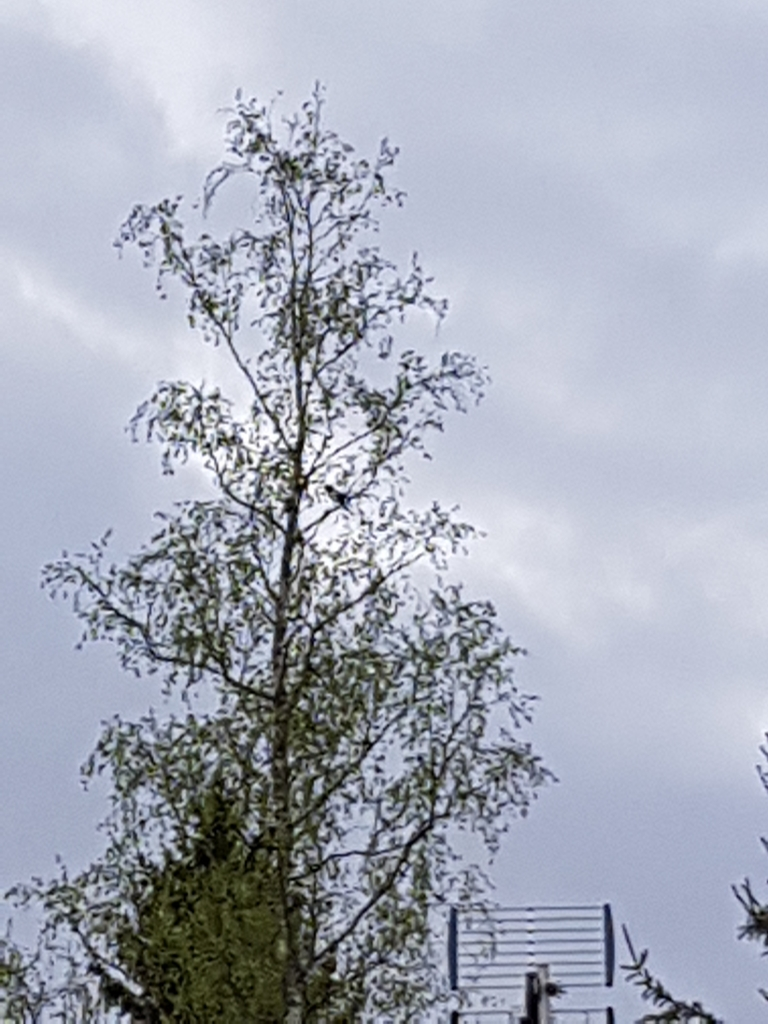Pica_pica: (323, 484, 356, 516)
